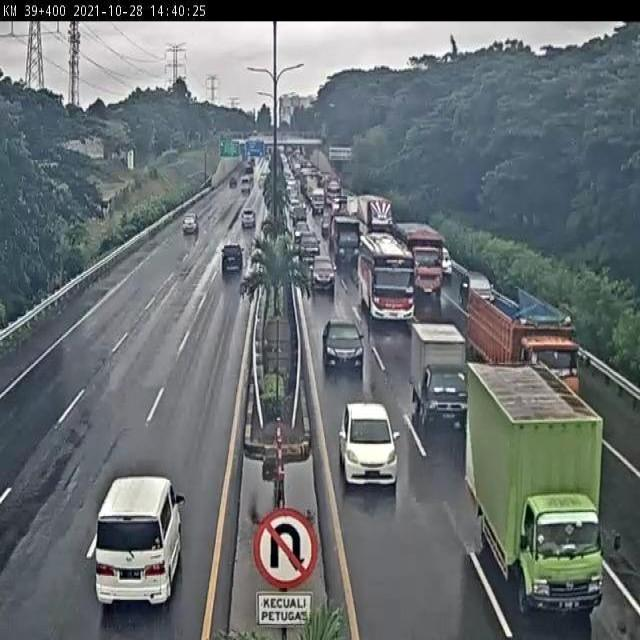big bus: (358, 231, 415, 324)
car: (93, 477, 183, 604), (339, 404, 396, 481), (321, 317, 366, 371), (462, 272, 497, 303), (218, 244, 245, 275), (310, 254, 336, 286), (298, 234, 320, 258), (239, 208, 258, 229), (181, 213, 198, 235)
mid truck: (468, 288, 579, 408), (397, 218, 445, 294)
small truck: (466, 364, 607, 612), (412, 323, 467, 424), (332, 213, 361, 260)
